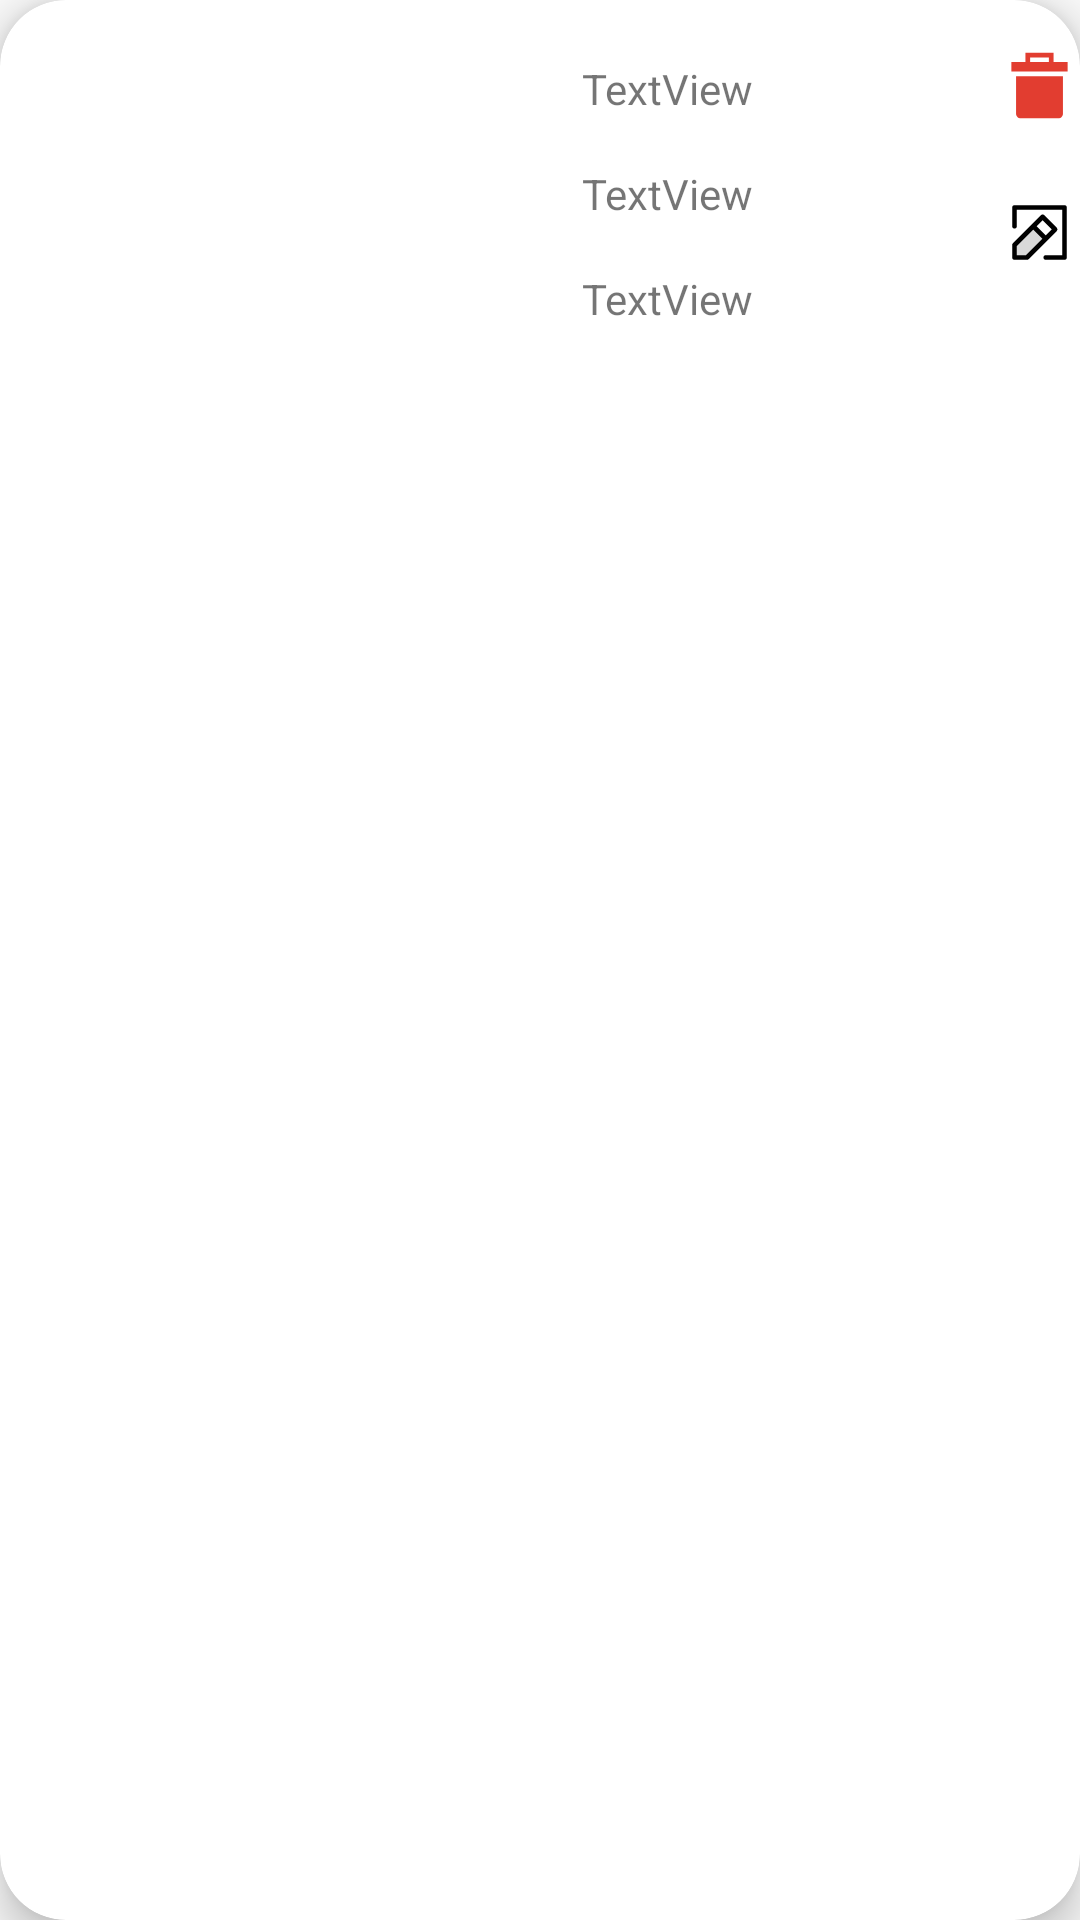

Icon bounding boxes for this 1080 x 1920 phone screenshot, format (x1, y1, x2, y2):
edit: (1012, 205, 1067, 260)
edit delete: (1011, 52, 1068, 119)
